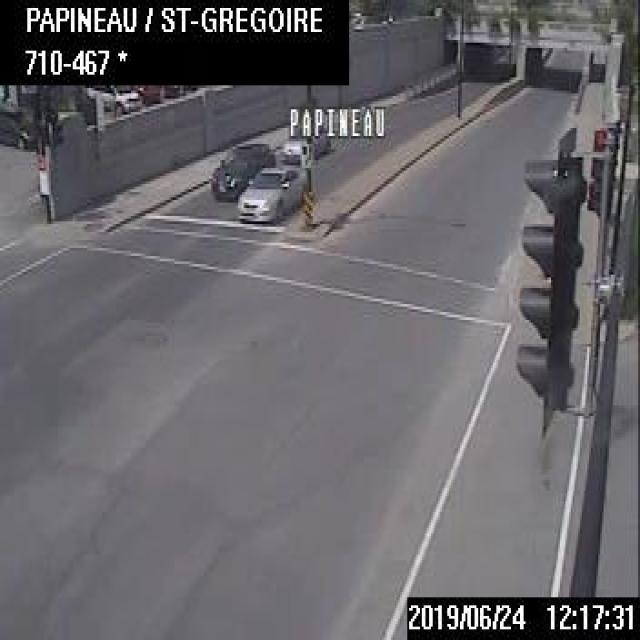vehicle: (208, 135, 276, 201), (235, 160, 306, 218), (280, 120, 330, 170), (0, 97, 38, 151), (83, 82, 141, 116)
